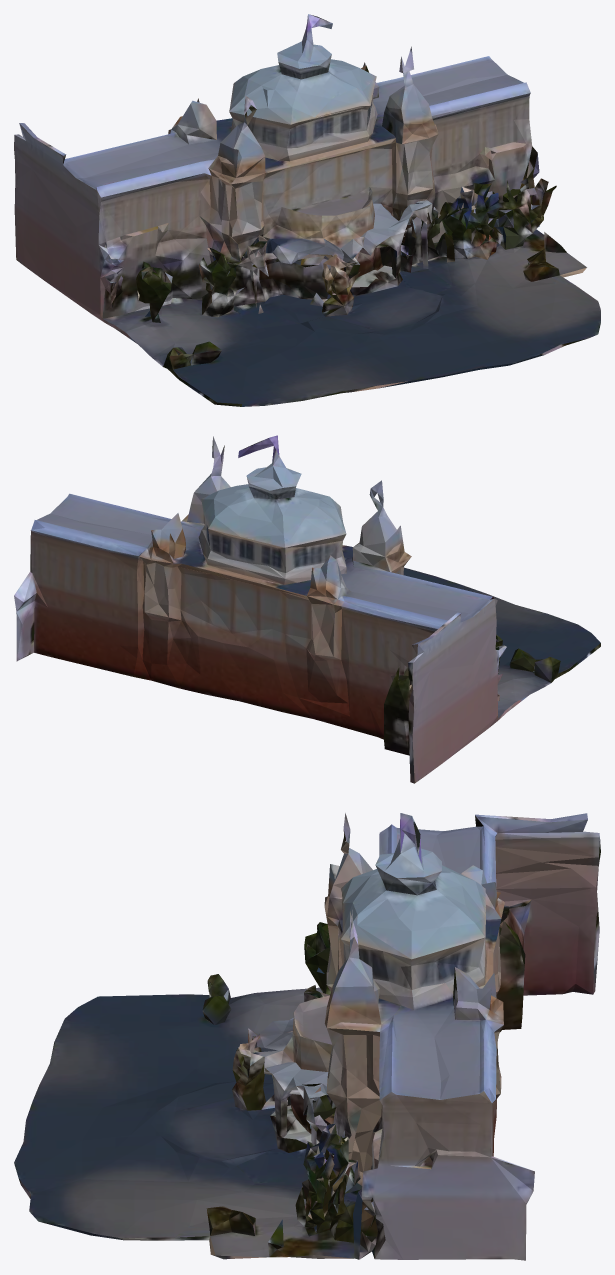
The model's file is club_playa.glb.
The picture shows the model from 3 angles, top to bottom: view 1: azimuth 30°, elevation 25°; view 2: azimuth 150°, elevation 25°; view 3: azimuth 270°, elevation 25°; orthographic projection. The views are drawn at different scales.
Visible parts, largest first — view 1: tmpqzblr6pn.ply; view 2: tmpqzblr6pn.ply; view 3: tmpqzblr6pn.ply.
Part boxes in pixels (x1,y1,x2,y2): tmpqzblr6pn.ply: (14,14,600,406); tmpqzblr6pn.ply: (14,435,600,783); tmpqzblr6pn.ply: (14,813,600,1260).
Size of the model in its own units: 1.99 by 1.11 by 1.84.
Materials: 1 (1 with a texture image).
